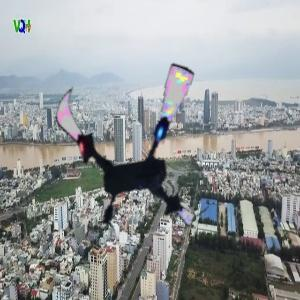drone: (38, 53, 228, 243)
